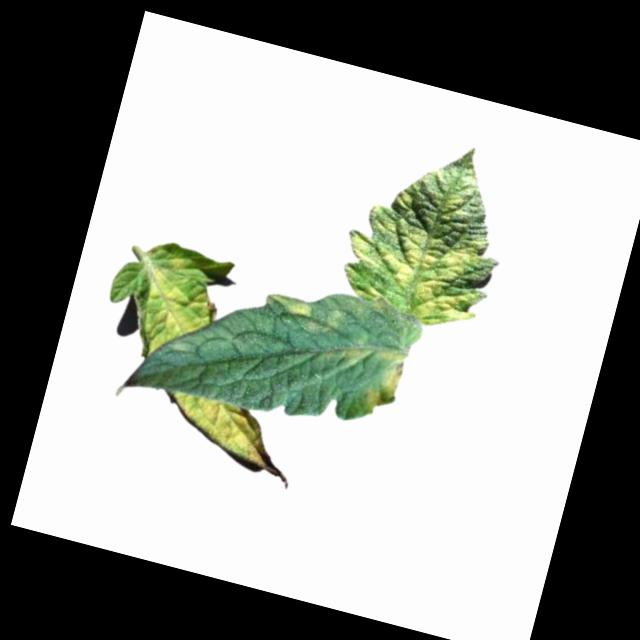Leaf_Mold: (332, 204, 496, 336), (161, 388, 281, 476), (136, 252, 226, 368), (325, 332, 410, 421), (265, 288, 344, 343)
